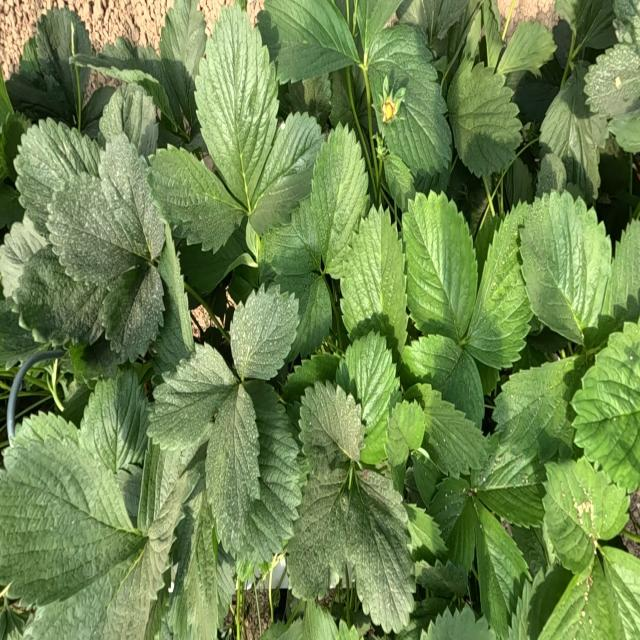Leaves: (0, 415, 146, 604), (24, 519, 174, 639), (195, 7, 278, 211), (368, 24, 451, 196), (521, 191, 611, 343), (70, 37, 194, 138), (463, 201, 532, 367), (345, 469, 415, 631), (572, 326, 639, 490), (404, 192, 477, 341), (245, 383, 306, 556), (148, 145, 243, 250), (340, 208, 407, 353), (543, 458, 627, 573), (167, 493, 233, 639), (46, 171, 131, 284), (15, 120, 100, 230), (149, 345, 236, 452), (206, 384, 259, 557), (309, 125, 368, 276), (249, 115, 323, 235), (16, 247, 106, 344), (540, 65, 604, 201), (493, 357, 580, 455), (99, 133, 165, 259), (449, 62, 521, 176), (287, 469, 347, 599), (264, 0, 356, 81), (80, 369, 148, 472), (475, 501, 527, 634), (585, 220, 640, 345), (230, 283, 298, 379), (337, 331, 399, 435), (35, 8, 91, 119), (160, 0, 207, 132), (138, 442, 197, 547), (404, 334, 483, 410), (102, 265, 163, 362), (300, 381, 363, 474), (475, 445, 545, 526), (423, 389, 484, 477), (156, 229, 194, 370), (429, 477, 484, 569), (507, 564, 571, 639), (259, 200, 318, 279), (180, 229, 248, 295), (99, 84, 158, 155), (0, 216, 49, 299), (584, 44, 639, 116), (6, 69, 75, 126), (600, 546, 639, 639), (385, 399, 424, 491), (290, 275, 331, 357), (555, 0, 612, 57), (497, 20, 555, 75), (421, 604, 497, 639), (0, 300, 40, 366), (356, 1, 401, 59), (406, 504, 445, 555), (417, 561, 467, 596)
Strawberries: (384, 104, 394, 121)
